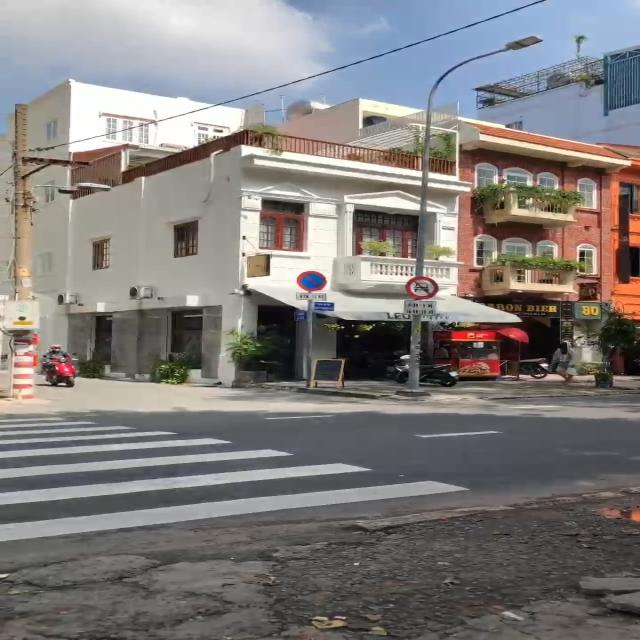Bien bao cam do xe: (296, 268, 328, 292)
Bien bao cam xe oto: (404, 275, 440, 300)
